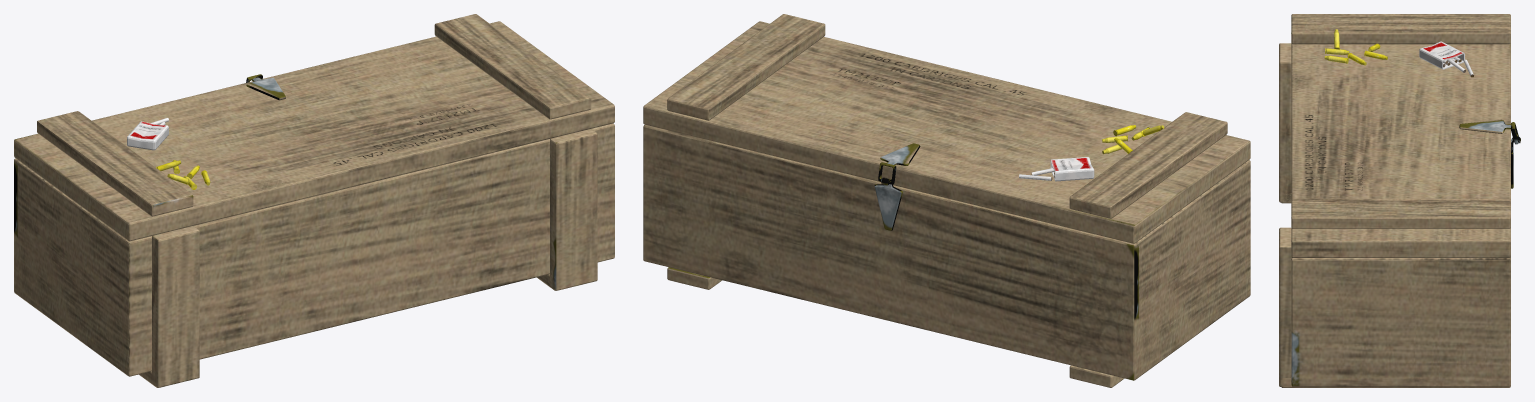
Rendered from skrzynia.fbx.
The picture shows the model from 3 angles, left to right: view 1: azimuth 30°, elevation 25°; view 2: azimuth 150°, elevation 25°; view 3: azimuth 270°, elevation 25°; orthographic projection. The views are drawn at different scales.
Visible parts, largest first — view 1: Crate, Ciggarates, Shells; view 2: Crate, Ciggarates, Shells; view 3: Crate, Ciggarates, Shells.
Part boxes in pixels (<box>): Crate: <box>14,14,614,387</box>; Ciggarates: <box>127,118,168,150</box>; Shells: <box>156,160,210,189</box>; Crate: <box>643,14,1250,387</box>; Ciggarates: <box>1019,157,1094,181</box>; Shells: <box>1102,125,1164,154</box>; Crate: <box>1279,14,1520,387</box>; Ciggarates: <box>1419,41,1473,77</box>; Shells: <box>1324,29,1387,65</box>.
Bounding box in the file's own units: 150 × 54.14 × 68.02.
3 materials, 3 textured.
